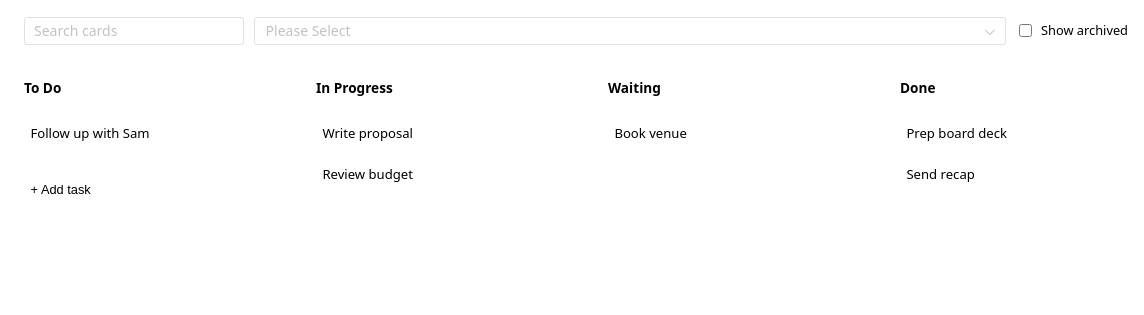
Test: Board filtering - US1: find a card by typing › "zebra" shows four empty lanes, the "No cards match" message, and "0 of 6 cards" (scenario 5)
expect the heading "To Do" is shown: met, box [24,78,61,97]
In the field with test id "board-search-input": point(134, 31) [34,17,234,45], type "zebra"
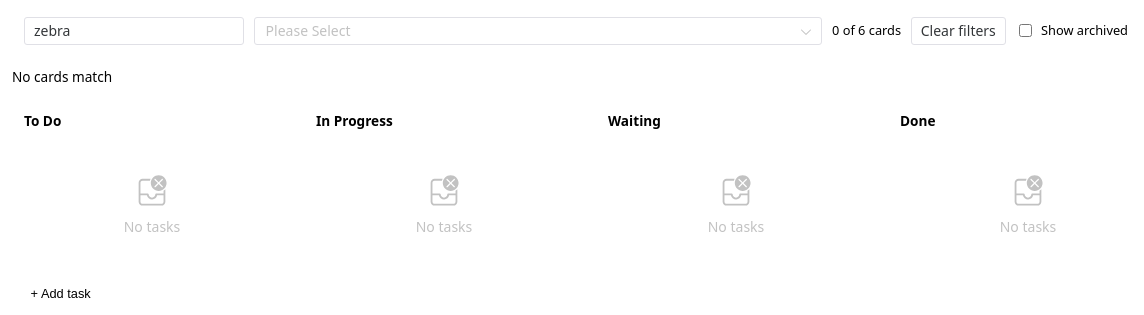
expect the element with test id "lane-empty" below "To Do" is shown: met, box [124,174,180,236]
expect the element with test id "lane-empty" below "In Progress" is shown: met, box [416,174,472,236]
expect the element with test id "lane-empty" below "Waiting" is shown: met, box [708,174,764,236]
